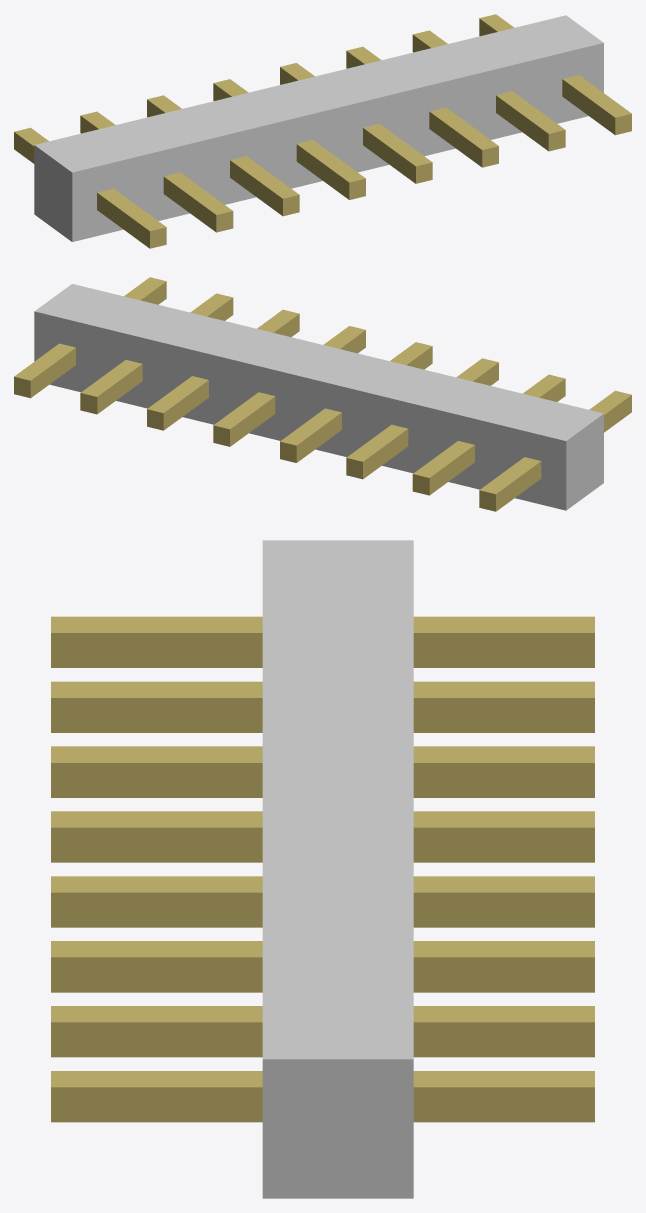
File: pin_header_254_8pin.glb
3 views of the same model, one above another, from view 1: azimuth 30°, elevation 25°; view 2: azimuth 150°, elevation 25°; view 3: azimuth 270°, elevation 25° (orthographic). The views are drawn at different scales.
Parts seen in each view (by area): view 1: housing, pins; view 2: housing, pins; view 3: pins, housing.
Boxes of the visible parts, x1,y1,x2,y2 form: housing: [34, 15, 603, 241]; pins: [14, 14, 631, 248]; housing: [34, 284, 603, 510]; pins: [14, 277, 631, 511]; pins: [51, 616, 594, 1122]; housing: [262, 540, 413, 1198].
Bounding box in the file's own units: 20.32 × 2.54 × 9.
